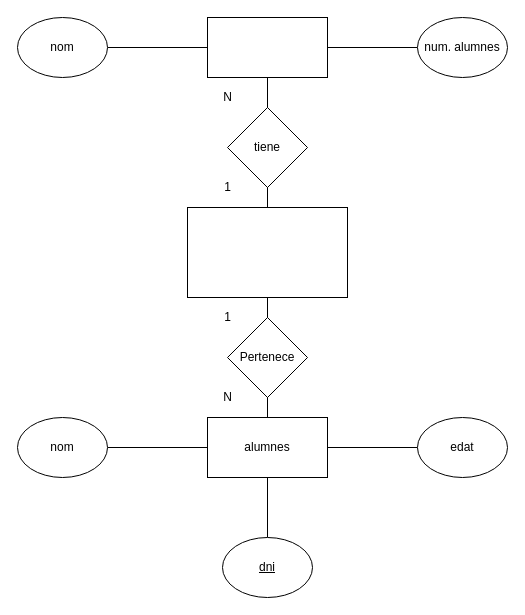
This 525x615 diagram has some shape labels left out. Here are the shapes that lost their labels. From the top down, the centre of each, then its label:
(267,47): classes
(267,252): ESCOLA
